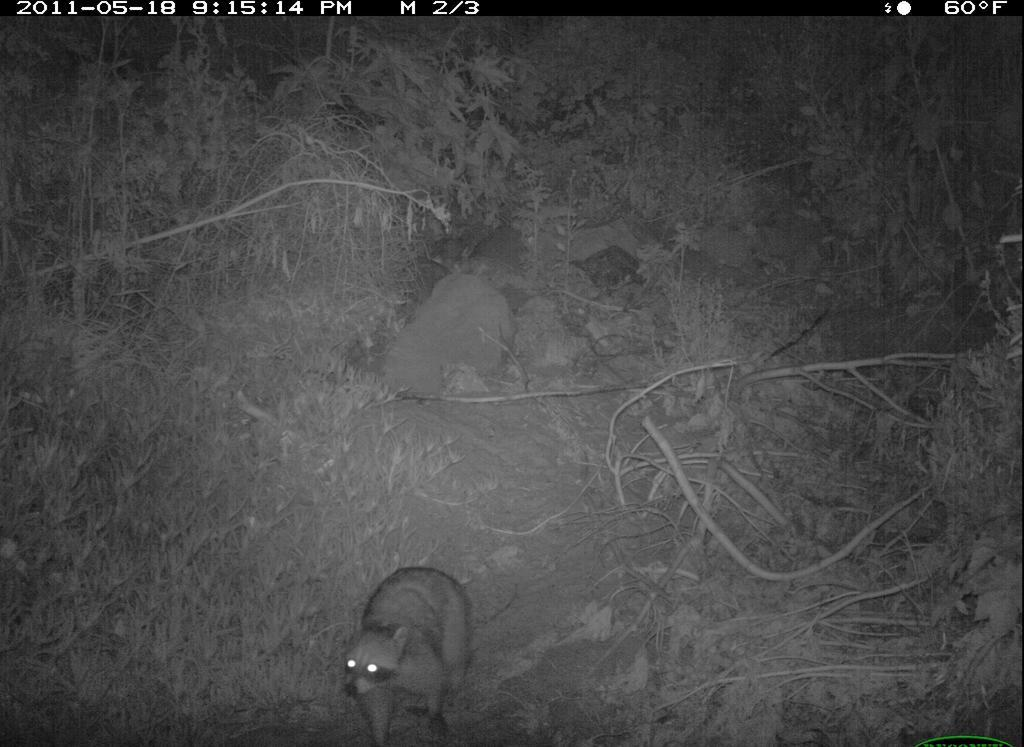raccoon: (331, 561, 488, 738)
